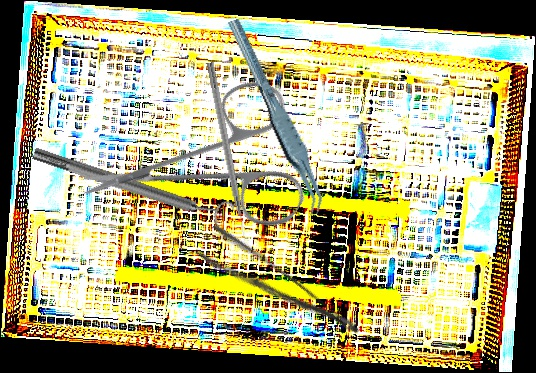Dressing Forceps: (193, 220, 363, 360)
Fixation Ring: (28, 135, 237, 236)
Hook Surgical: (204, 61, 250, 243)
Iris Scissors: (76, 27, 348, 300)
Tissue Forceps: (226, 10, 328, 223)
